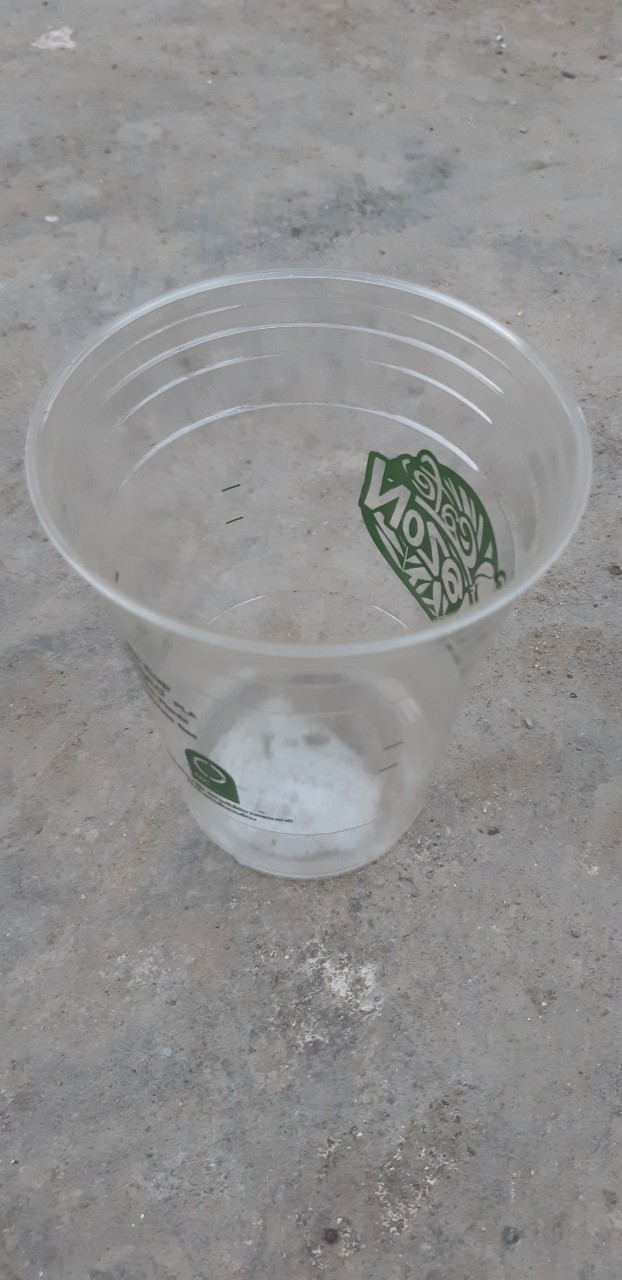PlasticCup: (30, 268, 590, 872)
